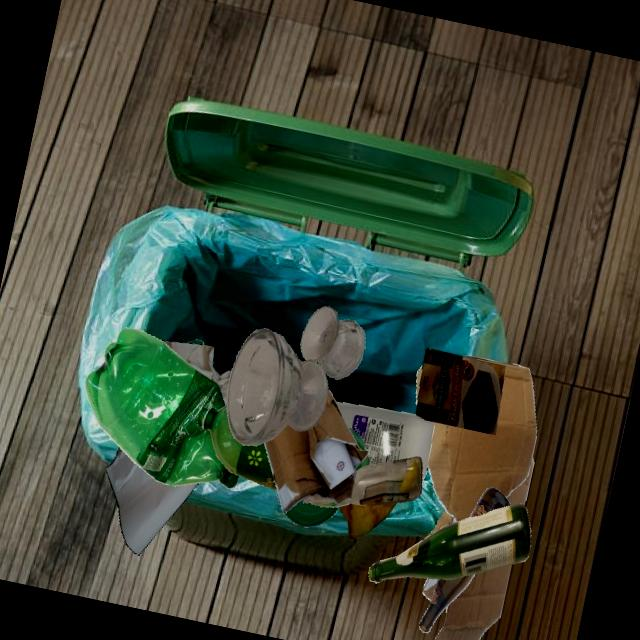biowaste: (338, 502, 397, 538)
cardboard: (427, 355, 536, 522), (264, 388, 368, 512), (415, 348, 505, 435), (434, 564, 511, 640), (430, 522, 470, 601)
glass: (368, 503, 530, 583), (226, 327, 328, 445), (300, 306, 365, 379), (343, 456, 422, 506), (419, 573, 475, 633), (469, 487, 510, 517)
paper: (105, 447, 197, 554), (161, 340, 231, 405)
plastic: (84, 327, 238, 488), (232, 434, 350, 503), (335, 402, 434, 482), (209, 430, 276, 490), (276, 490, 338, 527), (196, 404, 232, 434), (348, 426, 366, 460), (348, 426, 366, 450), (316, 501, 350, 507), (355, 460, 369, 470), (186, 339, 203, 344)
